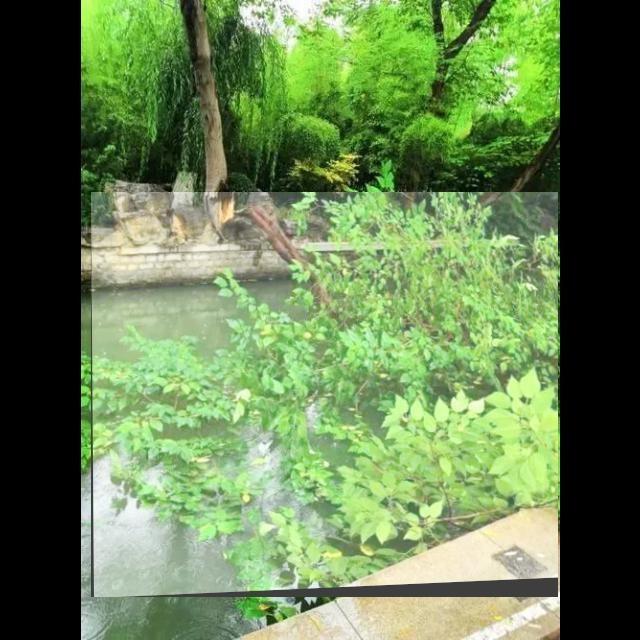fallen_tree: (91, 192, 559, 598)
